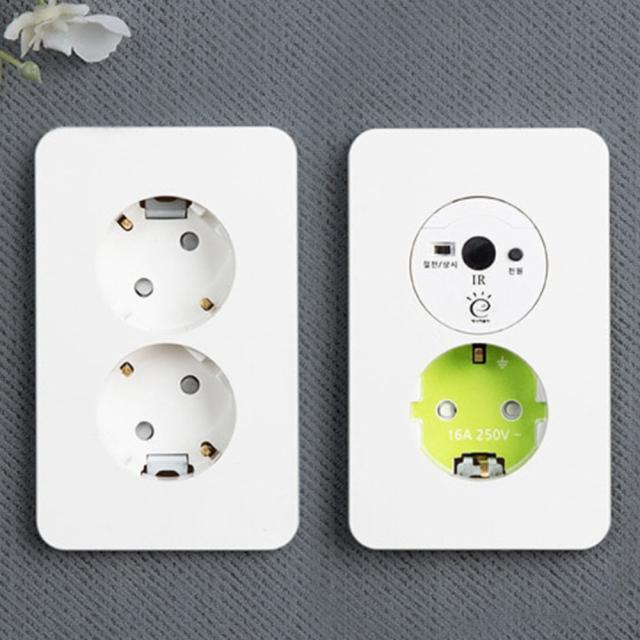typeb: (21, 113, 322, 598), (345, 105, 620, 586)
